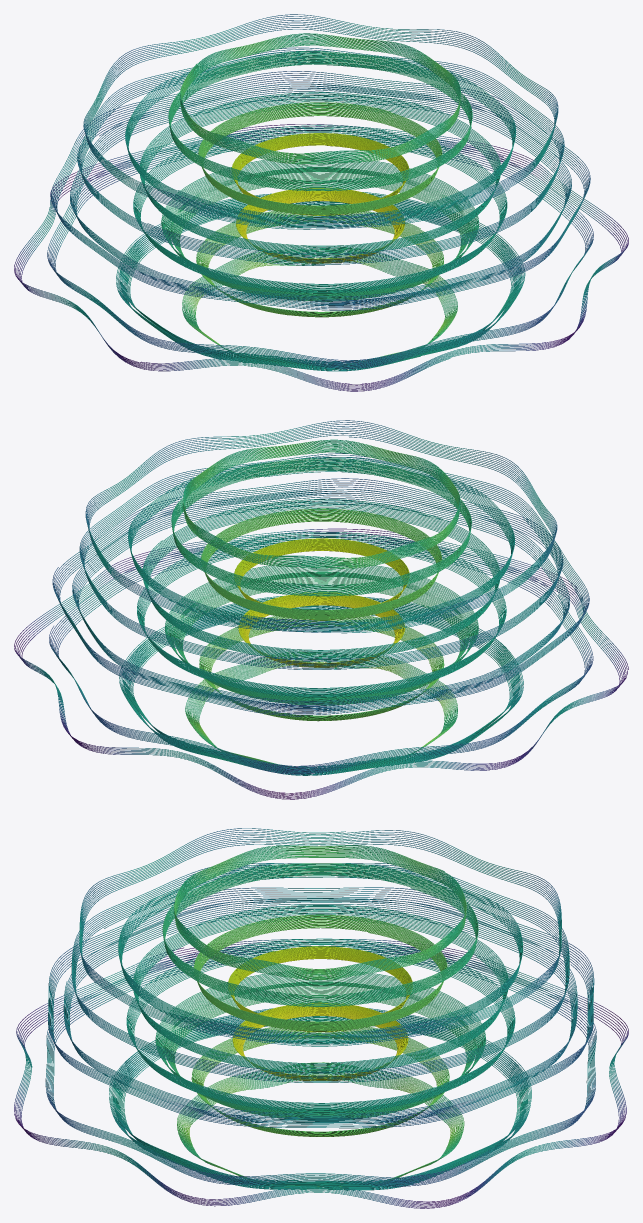
Rendered from coil_2_field_lines.gltf.
3 renders of one model, top to bottom at view 1: azimuth 30°, elevation 25°; view 2: azimuth 150°, elevation 25°; view 3: azimuth 270°, elevation 25°, orthographic. The views are drawn at different scales.
Parts seen in each view (by area): view 1: Renderer Node; view 2: Renderer Node; view 3: Renderer Node.
Part boxes in pixels (x1=…): Renderer Node: x1=14, y1=14, x2=628, y2=391; Renderer Node: x1=14, y1=420, x2=628, y2=799; Renderer Node: x1=14, y1=828, x2=628, y2=1208.
Bounding box in the file's own units: 1.08 × 0.4584 × 1.09.
Materials: 1 (1 with a texture image).
